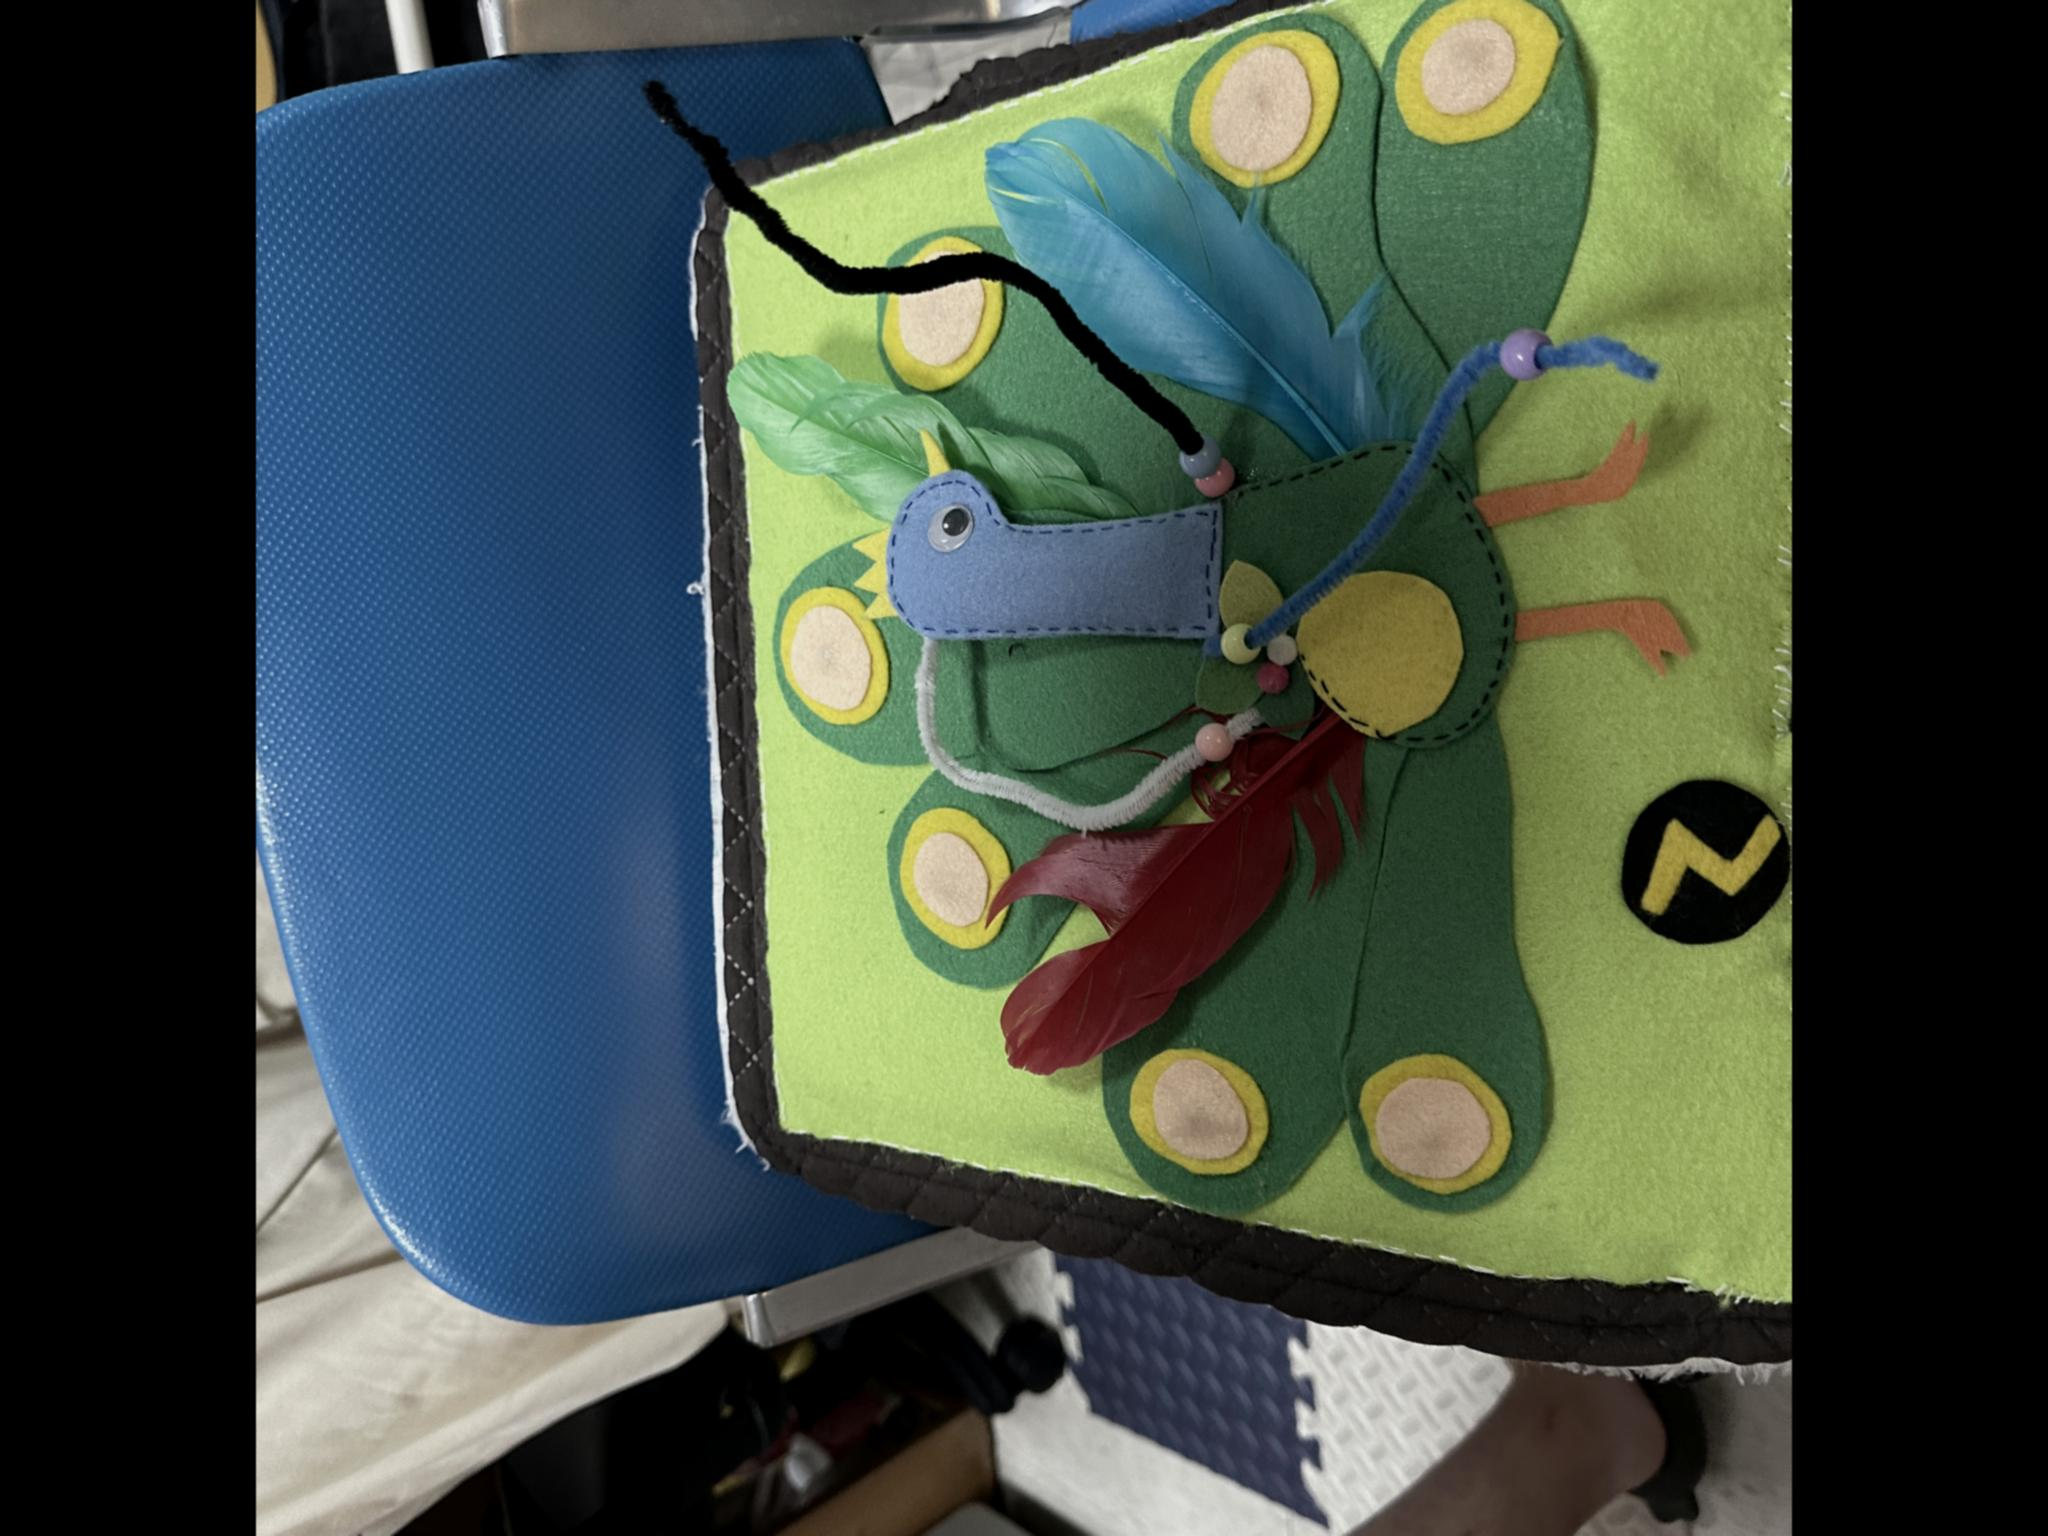bead: (1208, 613, 1253, 689), (1487, 323, 1540, 386), (1184, 419, 1219, 490), (1188, 720, 1243, 758), (1193, 460, 1240, 503)
